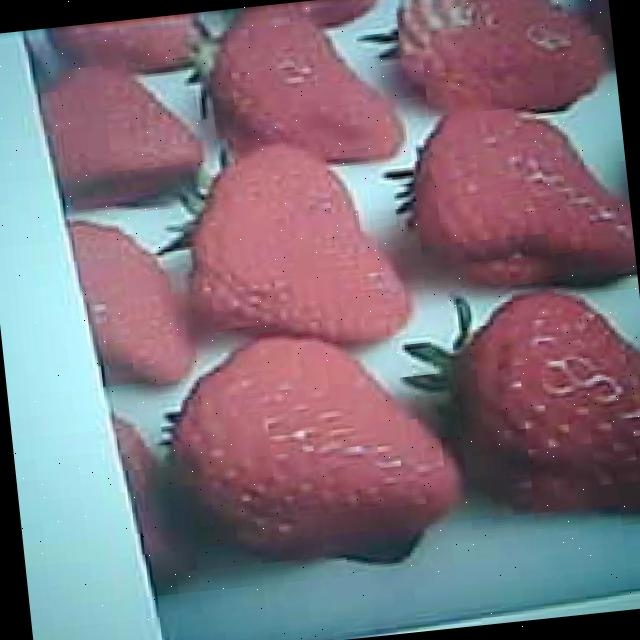strawberry: (162, 318, 458, 565), (179, 132, 415, 354), (444, 273, 640, 529), (408, 87, 637, 298)
